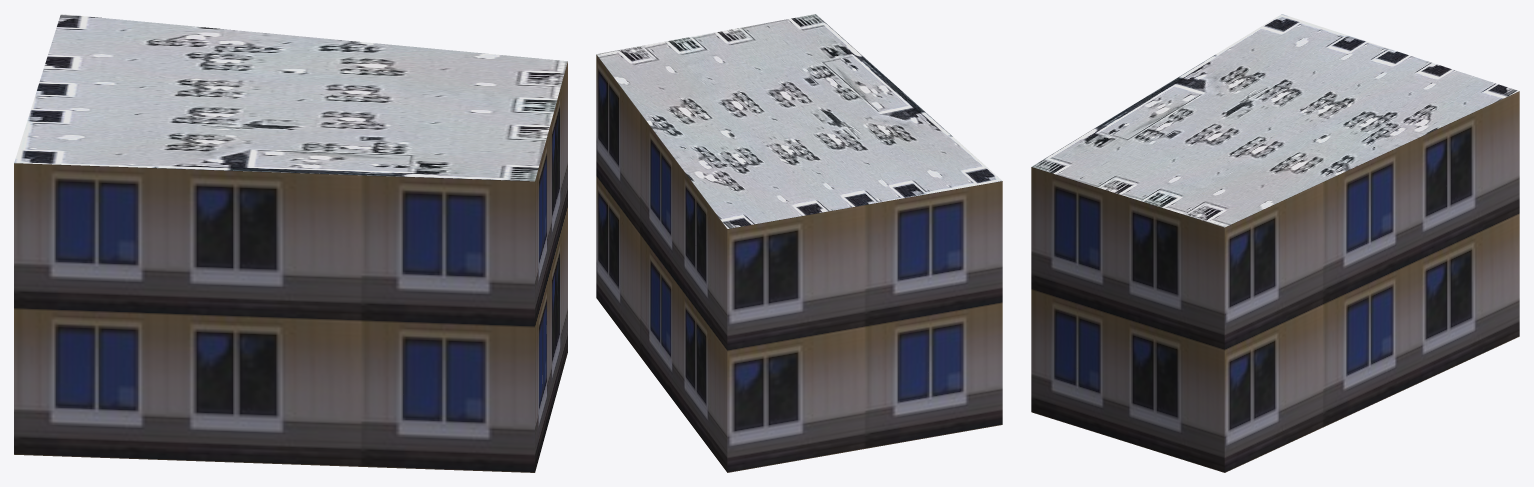
File: ResTex__4117.fbx
The picture shows the model from 3 angles, left to right: view 1: azimuth 30°, elevation 25°; view 2: azimuth 150°, elevation 25°; view 3: azimuth 270°, elevation 25°; orthographic projection. The views are drawn at different scales.
Parts seen in each view (by area): view 1: CityEngineMaterial_5_m, CityEngineMaterial_m; view 2: CityEngineMaterial_5_m, CityEngineMaterial_m; view 3: CityEngineMaterial_5_m, CityEngineMaterial_m.
Boxes of the visible parts, box(x1,y1,x2,y2) form: CityEngineMaterial_5_m: box(14, 61, 567, 472); CityEngineMaterial_m: box(14, 14, 567, 181); CityEngineMaterial_5_m: box(596, 54, 1002, 472); CityEngineMaterial_m: box(596, 14, 1001, 228); CityEngineMaterial_5_m: box(1031, 91, 1519, 472); CityEngineMaterial_m: box(1031, 14, 1519, 227).
Size of the model in its own units: 11.19 by 6 by 10.82.
2 materials, 2 textured.
